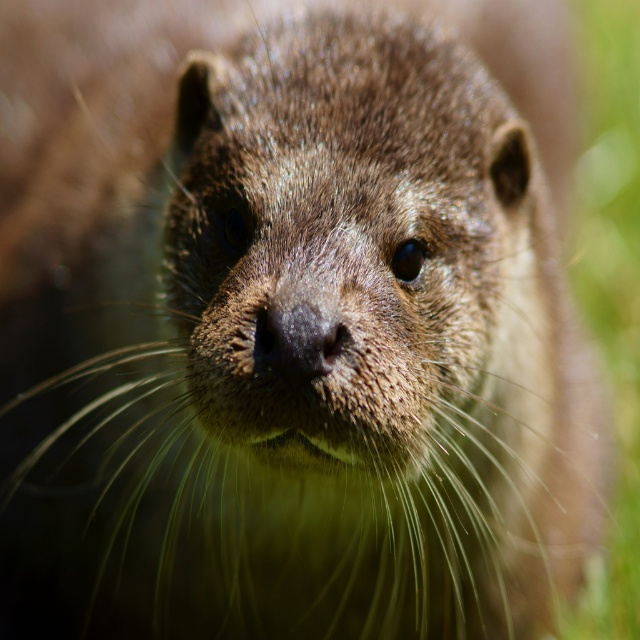Otter: (63, 0, 584, 640)
